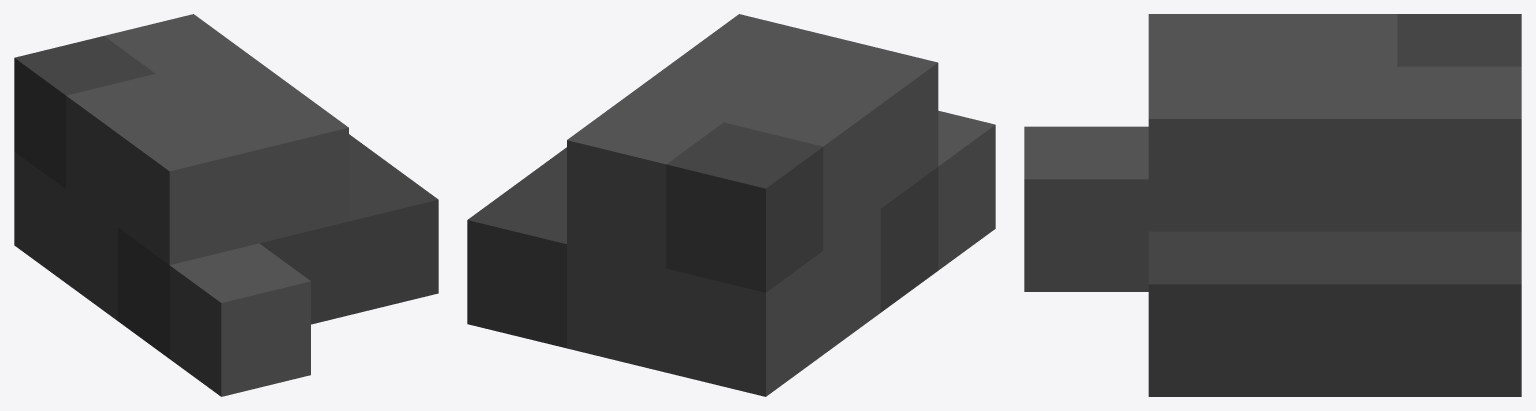
The model's file is gather_rock_frst.obj.
3 renders of one model, left to right at view 1: azimuth 30°, elevation 25°; view 2: azimuth 150°, elevation 25°; view 3: azimuth 270°, elevation 25°, orthographic. The views are drawn at different scales.
Visible parts, largest first — view 1: gather_rock_frst; view 2: gather_rock_frst; view 3: gather_rock_frst.
Part boxes in pixels (x1=…): gather_rock_frst: x1=14, y1=14, x2=438, y2=396; gather_rock_frst: x1=467, y1=14, x2=995, y2=396; gather_rock_frst: x1=1024, y1=14, x2=1521, y2=396.
Bounding box in the file's own units: 3 × 2 × 4.
1 material, 1 textured.
